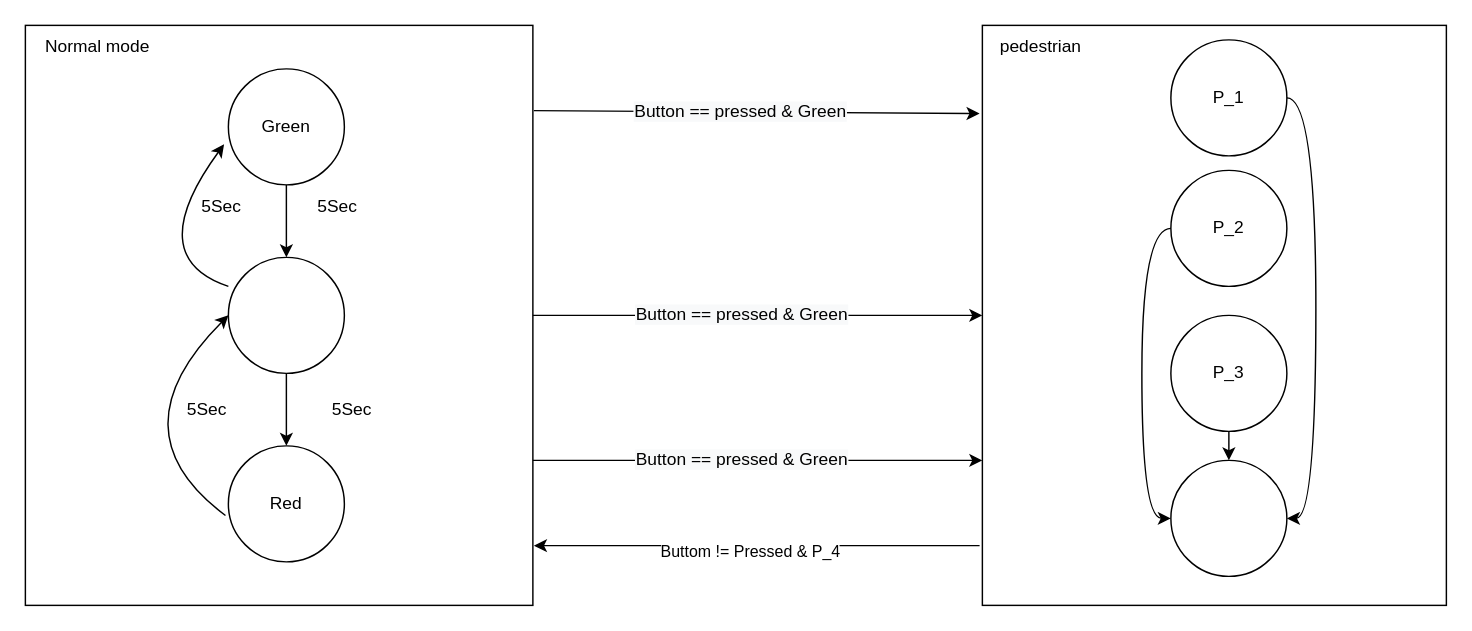
This 1472x631 diagram has some shape labels left out. The shapes that lost their labels are listed below. From the top down, each one's box as (x1, y1, x2, y2) in pixels, then its label:
(227, 256, 344, 373): yellow
(1169, 459, 1287, 576): P_4
